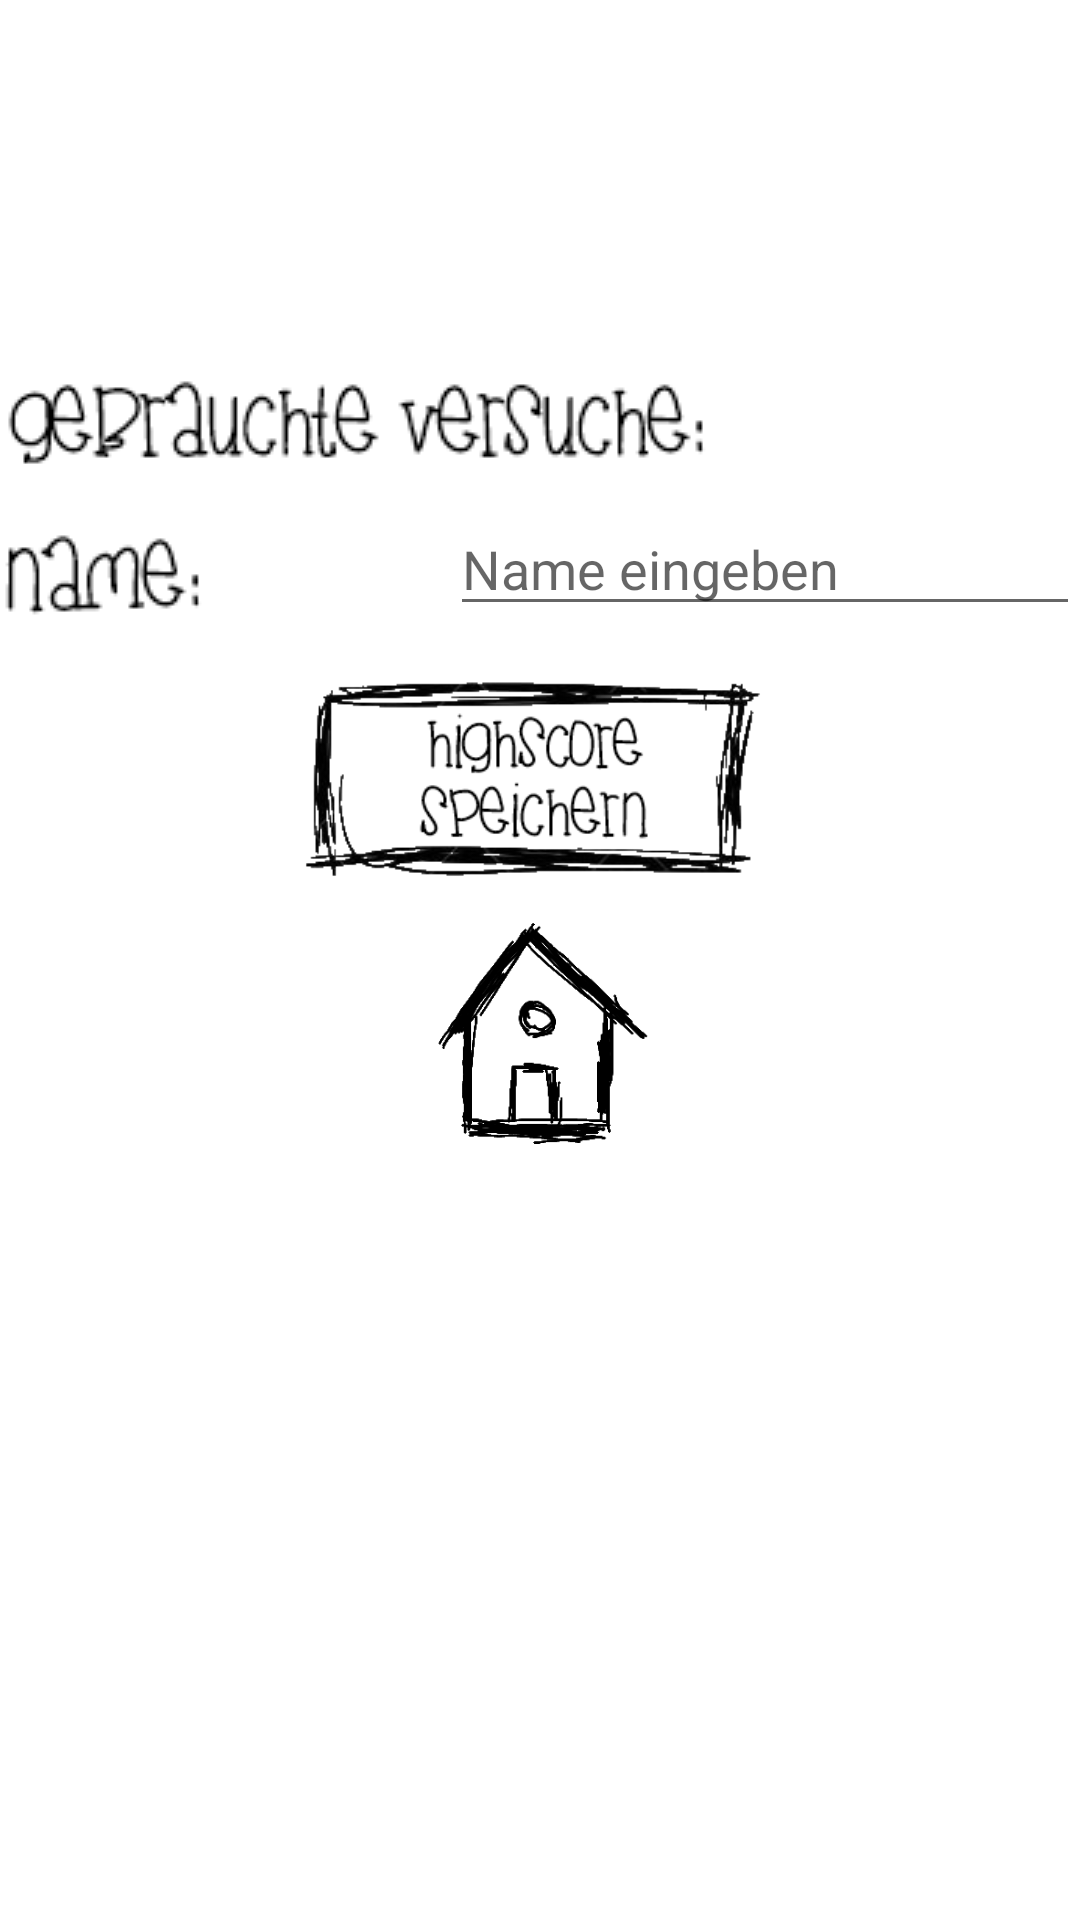

Icon click points for this 1080px x 1920px phone screenshot, format [x,y]:
home: [543,1033]
